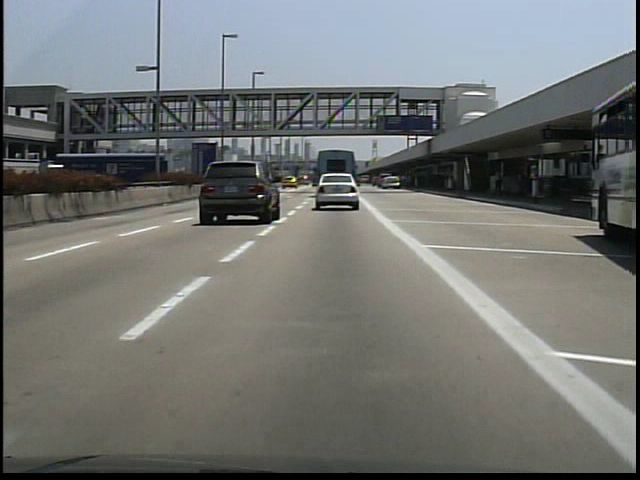person: (488, 166, 509, 203)
